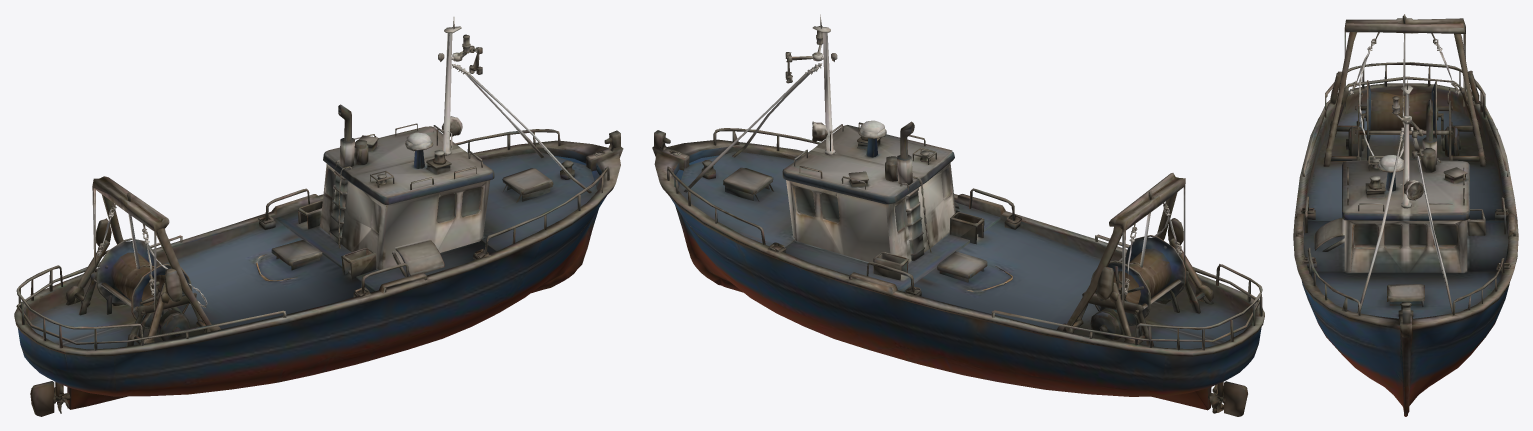
The model's file is trawler.glb.
3 views of the same model, side by side, from view 1: azimuth 30°, elevation 25°; view 2: azimuth 150°, elevation 25°; view 3: azimuth 270°, elevation 25° (orthographic).
Parts seen in each view (by area): view 1: tripo_node_a9fd4133-2171-4492-86a9-b8b52e22de10; view 2: tripo_node_a9fd4133-2171-4492-86a9-b8b52e22de10; view 3: tripo_node_a9fd4133-2171-4492-86a9-b8b52e22de10.
Boxes of the visible parts, x1,y1,x2,y2 form: tripo_node_a9fd4133-2171-4492-86a9-b8b52e22de10: (14, 17, 623, 416); tripo_node_a9fd4133-2171-4492-86a9-b8b52e22de10: (652, 14, 1264, 416); tripo_node_a9fd4133-2171-4492-86a9-b8b52e22de10: (1293, 14, 1518, 416).
Bounding box in the file's own units: 0.998 × 0.4863 × 0.334.
Materials: 1 (1 with a texture image).
